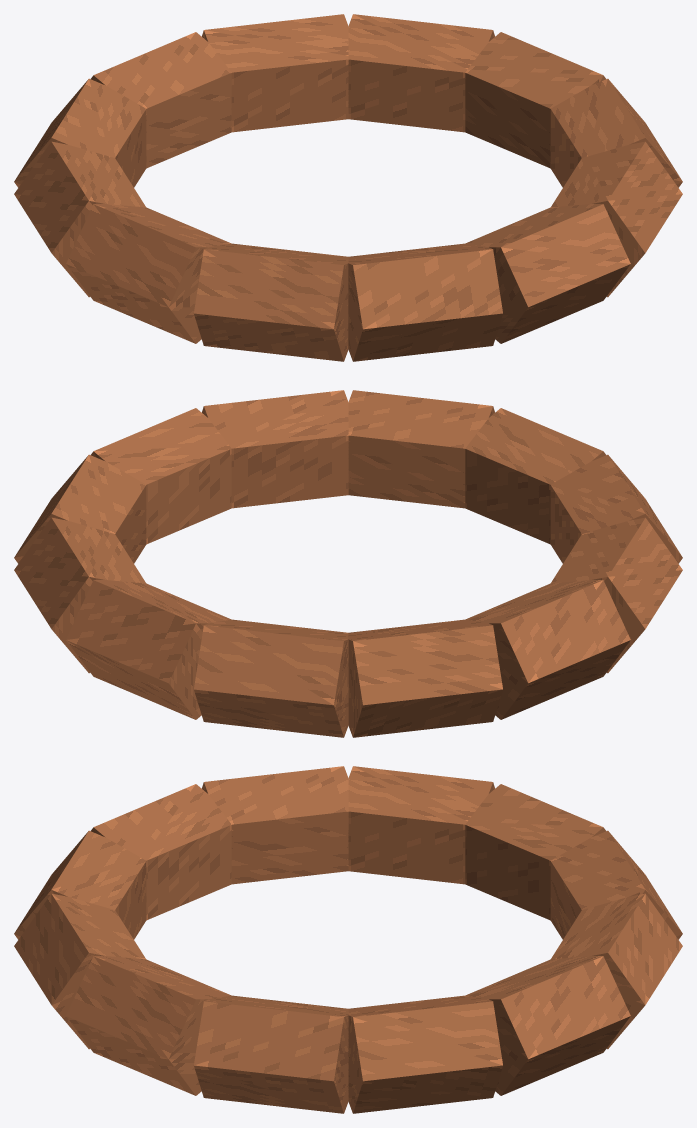
Rendered from copper_ring.glb.
3 renders of one model, top to bottom at view 1: azimuth 30°, elevation 25°; view 2: azimuth 150°, elevation 25°; view 3: azimuth 270°, elevation 25°, orthographic.
Parts seen in each view (by area): view 1: block_band3, block_band4, block_band2, block_band5, block_band10, block_band9, block_band8, block_band11, block_band1, block_band6, block_band0, block_band7; view 2: block_band7, block_band8, block_band6, block_band9, block_band1, block_band2, block_band0, block_band3, block_band5, block_band10, block_band4, block_band11; view 3: block_band0, block_band11, block_band1, block_band10, block_band5, block_band6, block_band4, block_band7, block_band2, block_band9, block_band3, block_band8.
Part boxes in pixels (x1=…): block_band3: x1=348, y1=243, x2=502, y2=361; block_band4: x1=194, y1=243, x2=348, y2=361; block_band2: x1=465, y1=204, x2=630, y2=343; block_band5: x1=66, y1=204, x2=231, y2=343; block_band10: x1=348, y1=14, x2=494, y2=132; block_band9: x1=202, y1=14, x2=348, y2=132; block_band8: x1=91, y1=32, x2=231, y2=168; block_band11: x1=465, y1=32, x2=605, y2=168; block_band1: x1=551, y1=141, x2=682, y2=297; block_band6: x1=14, y1=141, x2=145, y2=297; block_band0: x1=550, y1=78, x2=682, y2=187; block_band7: x1=14, y1=78, x2=146, y2=187; block_band7: x1=348, y1=619, x2=502, y2=737; block_band8: x1=194, y1=619, x2=348, y2=737; block_band6: x1=465, y1=580, x2=630, y2=719; block_band9: x1=66, y1=580, x2=231, y2=719; block_band1: x1=202, y1=390, x2=348, y2=508; block_band2: x1=348, y1=390, x2=494, y2=508; block_band0: x1=91, y1=408, x2=231, y2=544; block_band3: x1=465, y1=408, x2=605, y2=544; block_band5: x1=551, y1=517, x2=682, y2=673; block_band10: x1=14, y1=517, x2=145, y2=673; block_band4: x1=550, y1=454, x2=682, y2=563; block_band11: x1=14, y1=454, x2=146, y2=563; block_band0: x1=194, y1=995, x2=348, y2=1113; block_band11: x1=348, y1=995, x2=502, y2=1113; block_band1: x1=66, y1=956, x2=231, y2=1095; block_band10: x1=465, y1=956, x2=630, y2=1095; block_band5: x1=202, y1=766, x2=348, y2=884; block_band6: x1=348, y1=766, x2=494, y2=884; block_band4: x1=91, y1=784, x2=231, y2=920; block_band7: x1=465, y1=784, x2=605, y2=920; block_band2: x1=14, y1=893, x2=145, y2=1049; block_band9: x1=551, y1=893, x2=682, y2=1049; block_band3: x1=14, y1=830, x2=146, y2=939; block_band8: x1=550, y1=830, x2=682, y2=939.
Size of the model in its own units: 0.0215 by 0.00342 by 0.0215.
Materials: 1 (1 with a texture image).
